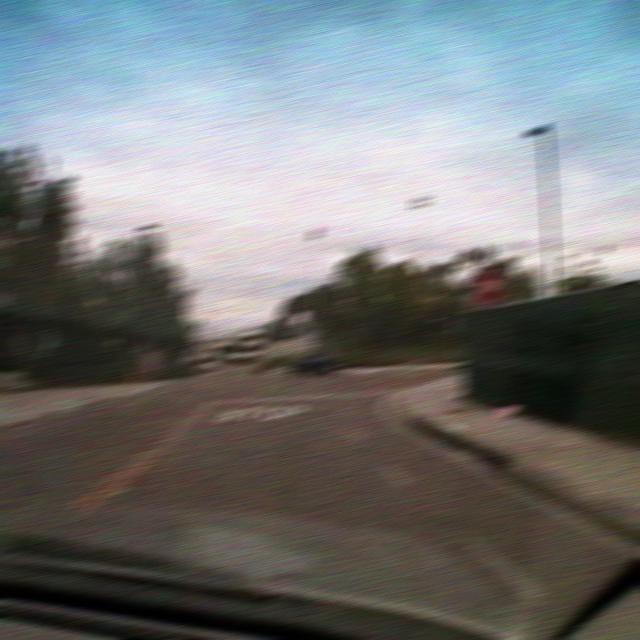stop_sign: (469, 267, 502, 304)
